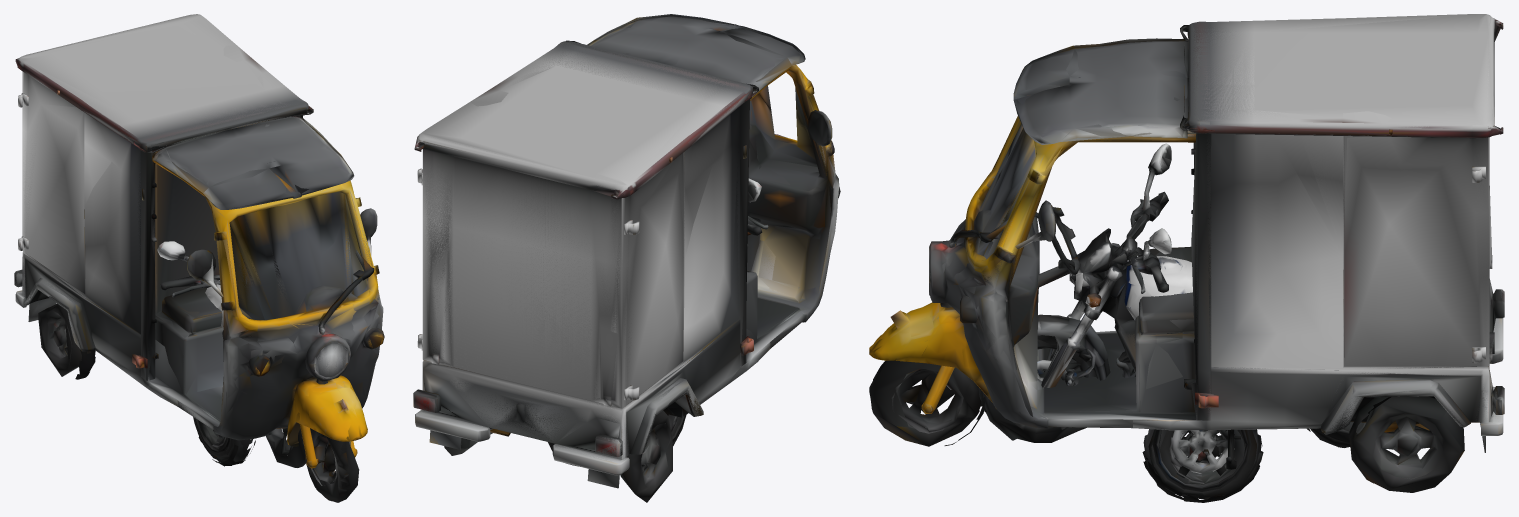
The model's file is tripo.glb.
The picture shows the model from 3 angles, left to right: view 1: azimuth 30°, elevation 25°; view 2: azimuth 150°, elevation 25°; view 3: azimuth 270°, elevation 25°; orthographic projection. The views are drawn at different scales.
Parts seen in each view (by area): view 1: ecargo, ecargo-far, ecargo-front, vega-far, vega-front, vega-wheel-0; view 2: ecargo, ecargo-far; view 3: ecargo, ecargo-far, vega-far, vega-front, vega, ecargo-front, vega-wheel-1, vega-wheel-0, ecargo-wheel-2, ecargo-wheel-1, ecargo-wheel-0.
Part boxes in pixels (left/top/right/bottom): ecargo: left=14, top=14, right=384, bottom=465; ecargo-far: left=14, top=24, right=383, bottom=502; ecargo-front: left=280, top=400, right=367, bottom=468; vega-far: left=159, top=242, right=305, bottom=467; vega-front: left=157, top=241, right=303, bottom=445; vega-wheel-0: left=194, top=417, right=255, bottom=466; ecargo: left=413, top=14, right=840, bottom=488; ecargo-far: left=414, top=14, right=838, bottom=502; ecargo: left=894, top=14, right=1504, bottom=483; ecargo-far: left=869, top=14, right=1503, bottom=492; vega-far: left=984, top=146, right=1365, bottom=460; vega-front: left=978, top=143, right=1192, bottom=412; vega: left=1038, top=266, right=1349, bottom=469; ecargo-front: left=869, top=323, right=991, bottom=445; vega-wheel-1: left=1142, top=429, right=1263, bottom=499; vega-wheel-0: left=1143, top=429, right=1262, bottom=502; ecargo-wheel-2: left=1160, top=429, right=1256, bottom=499; ecargo-wheel-1: left=1151, top=429, right=1244, bottom=498; ecargo-wheel-0: left=1146, top=429, right=1235, bottom=498.
Size of the model in its own units: 1.27 by 2.17 by 2.9.
